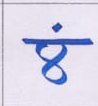anusvara: (52, 24, 61, 31)
